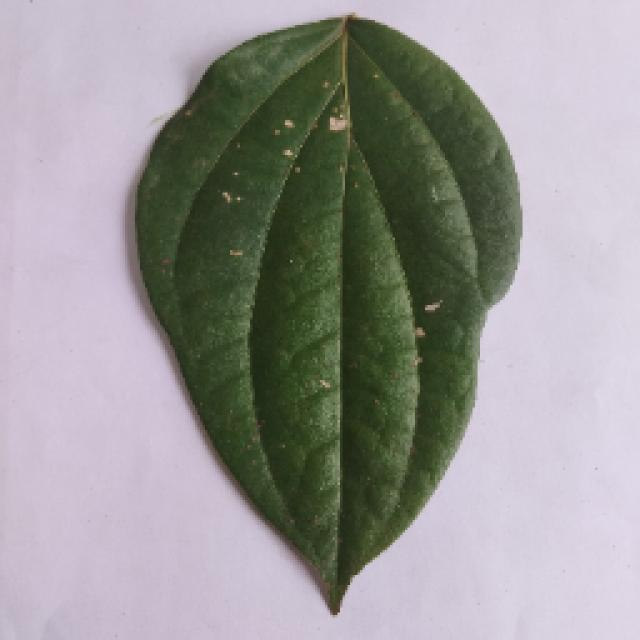pollu-disease: (100, 23, 552, 615)
